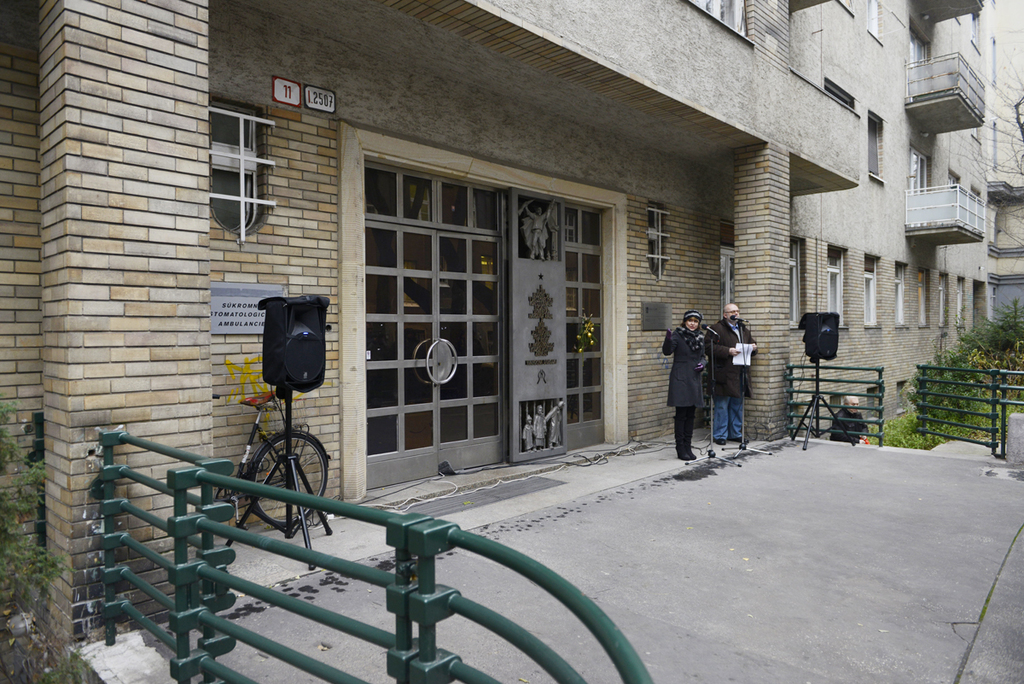Window: (776, 241, 963, 325), (198, 99, 276, 251)
